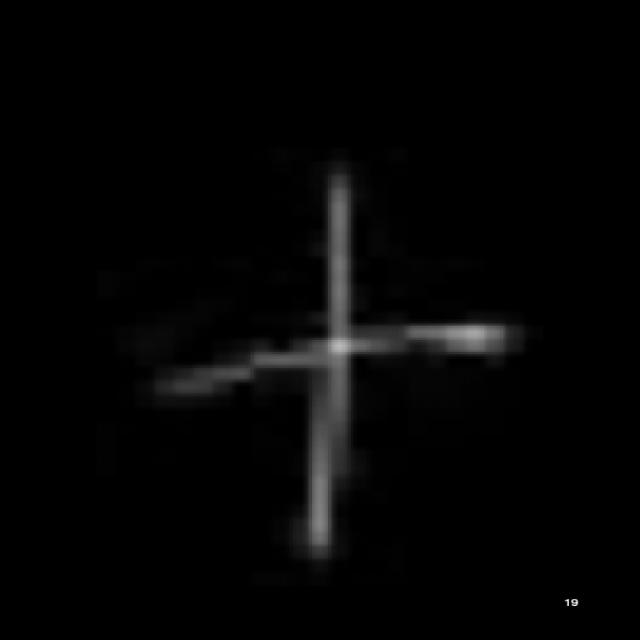10 -ten-: (151, 150, 522, 563)
